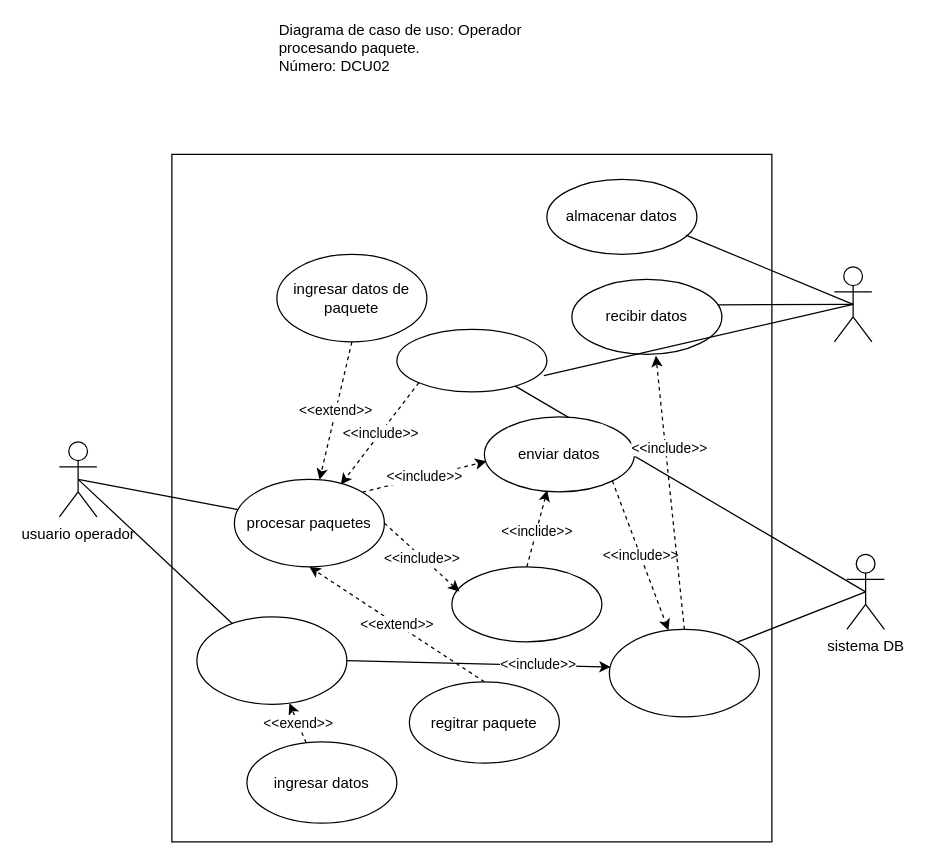
Some shapes in this 925 by 864 pixel diagram are drawn without their labels. The box of each missing label's shape, as (x1, y1, x2, y2) in pixels:
hacer consulta: (451, 566, 602, 642)
iniciar sesion: (196, 616, 347, 704)
mostrar datos de paquete: (396, 328, 547, 392)
sistema api: (833, 266, 872, 342)
validar datos: (608, 628, 759, 717)
